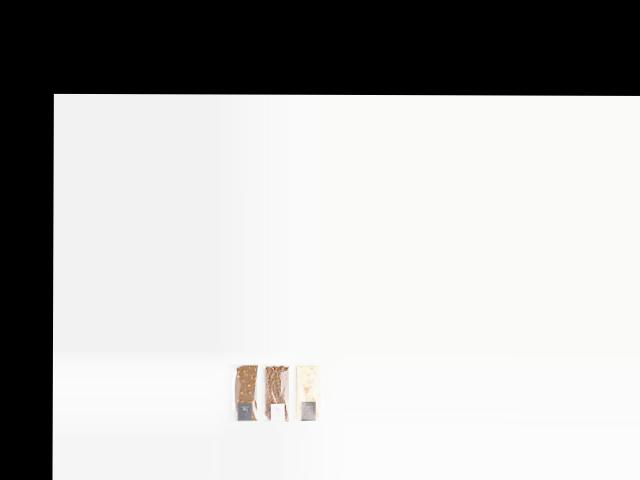chocolate: (225, 359, 260, 420)
